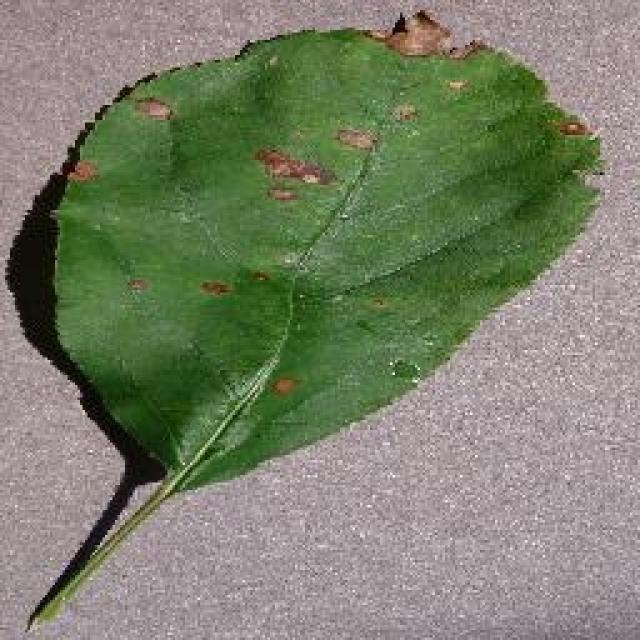apple healthy: (3, 5, 605, 630)
